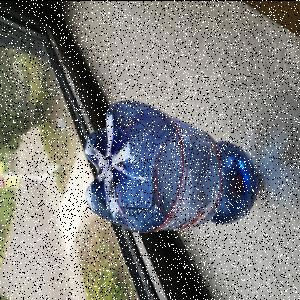Plastic-bottle: (84, 99, 262, 235)
